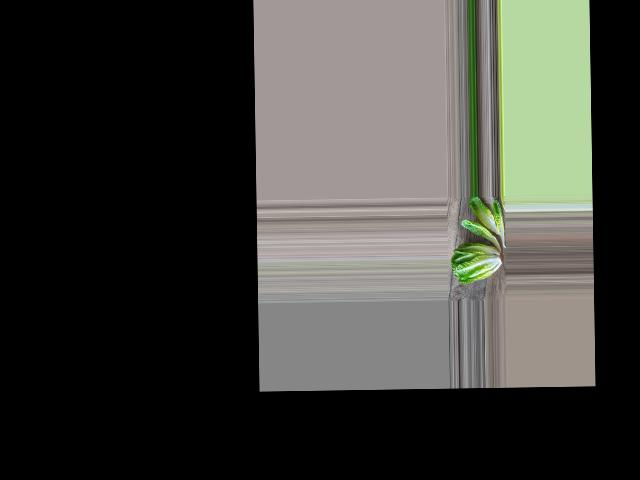lettuce: (451, 240, 501, 285)
